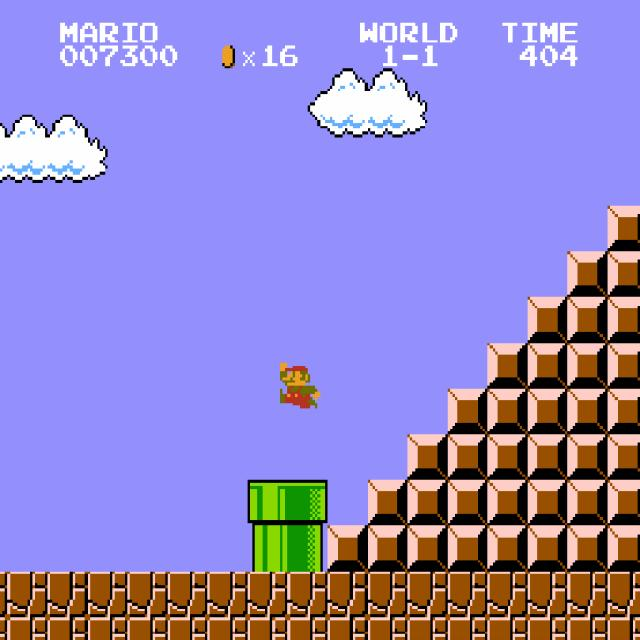hard_block: (367, 480, 408, 526), (407, 434, 448, 480), (407, 480, 448, 526), (447, 434, 488, 480), (447, 480, 488, 526), (487, 434, 528, 480), (487, 480, 528, 526), (527, 297, 568, 343), (527, 434, 568, 480), (527, 480, 568, 526), (567, 297, 608, 343), (567, 434, 608, 480), (567, 480, 608, 526), (327, 526, 368, 571), (367, 526, 408, 571), (407, 526, 448, 571), (447, 389, 488, 434), (447, 526, 488, 571), (487, 343, 528, 388), (487, 389, 528, 434), (487, 526, 528, 571), (527, 343, 568, 388), (527, 389, 568, 434), (527, 526, 568, 571), (567, 252, 608, 297), (567, 343, 608, 388), (567, 389, 608, 434), (567, 526, 608, 571), (607, 205, 640, 251), (607, 251, 640, 297), (607, 342, 640, 388), (607, 388, 640, 434), (607, 525, 640, 571), (607, 297, 640, 342), (607, 434, 640, 479), (607, 480, 640, 525)
little_mario: (277, 360, 320, 408)
pipe: (247, 526, 288, 571), (287, 526, 328, 571)
pipe_head: (247, 480, 288, 526), (287, 480, 328, 526)
undestructible_block: (7, 572, 48, 617), (47, 572, 88, 617), (87, 572, 128, 617), (127, 572, 168, 617), (167, 572, 208, 617), (207, 572, 248, 617), (247, 572, 288, 617), (287, 572, 328, 617), (327, 572, 368, 617), (367, 572, 408, 617), (407, 572, 448, 617), (447, 572, 488, 617), (487, 572, 528, 617), (527, 572, 568, 617), (567, 572, 608, 617), (607, 571, 640, 617), (7, 617, 48, 640), (47, 617, 88, 640), (87, 617, 128, 640), (127, 617, 168, 640), (167, 617, 208, 640), (207, 617, 248, 640), (247, 617, 288, 640), (287, 617, 328, 640), (327, 617, 368, 640), (367, 617, 408, 640), (407, 617, 448, 640), (447, 617, 488, 640), (487, 617, 528, 640), (527, 617, 568, 640), (567, 617, 608, 640), (607, 617, 640, 639), (0, 572, 7, 617), (0, 617, 7, 640)
